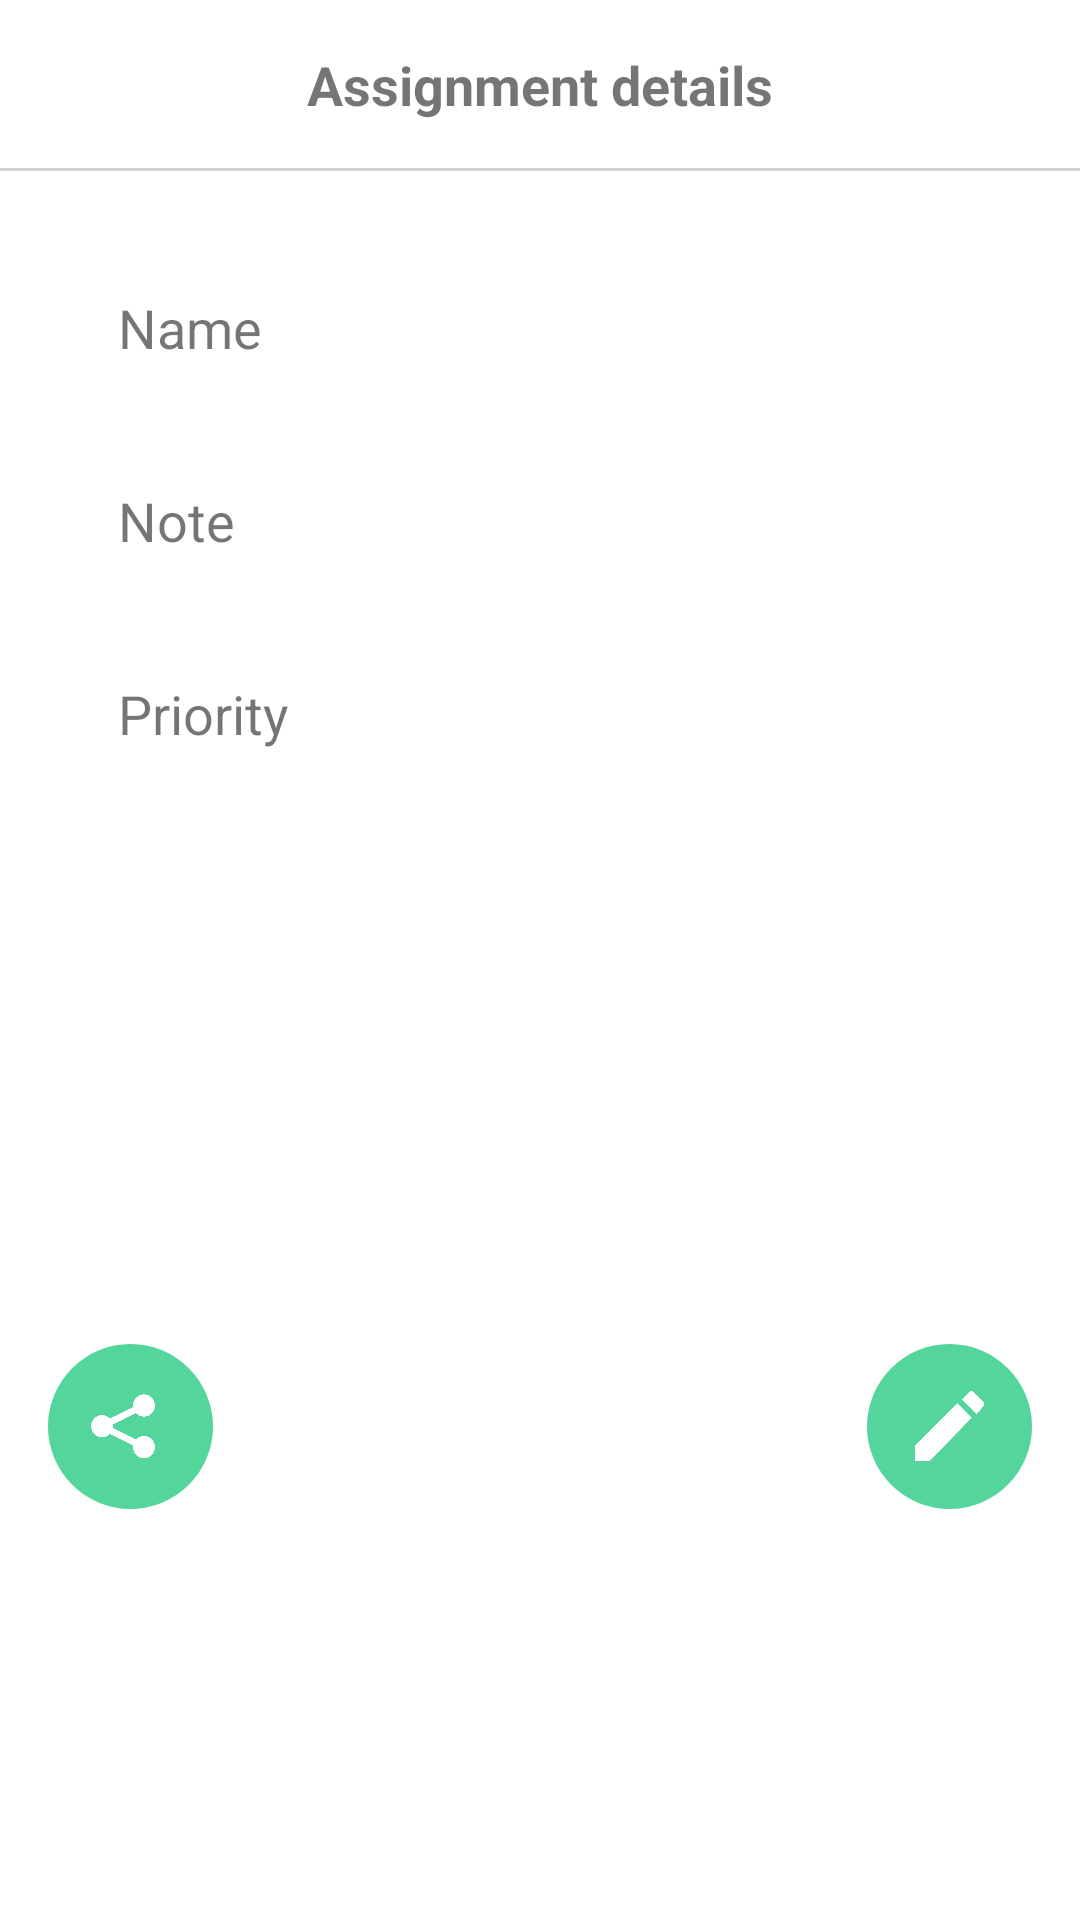

Icons on this 1080w x 1920h Android screen, each with the point to tap as (x,y):
edit: (949,1426)
share: (130,1426)
